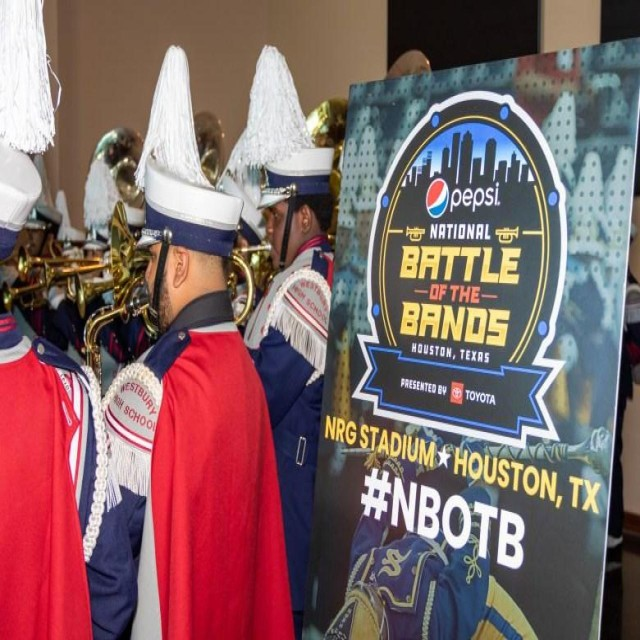pepsi: (425, 177, 449, 224)
